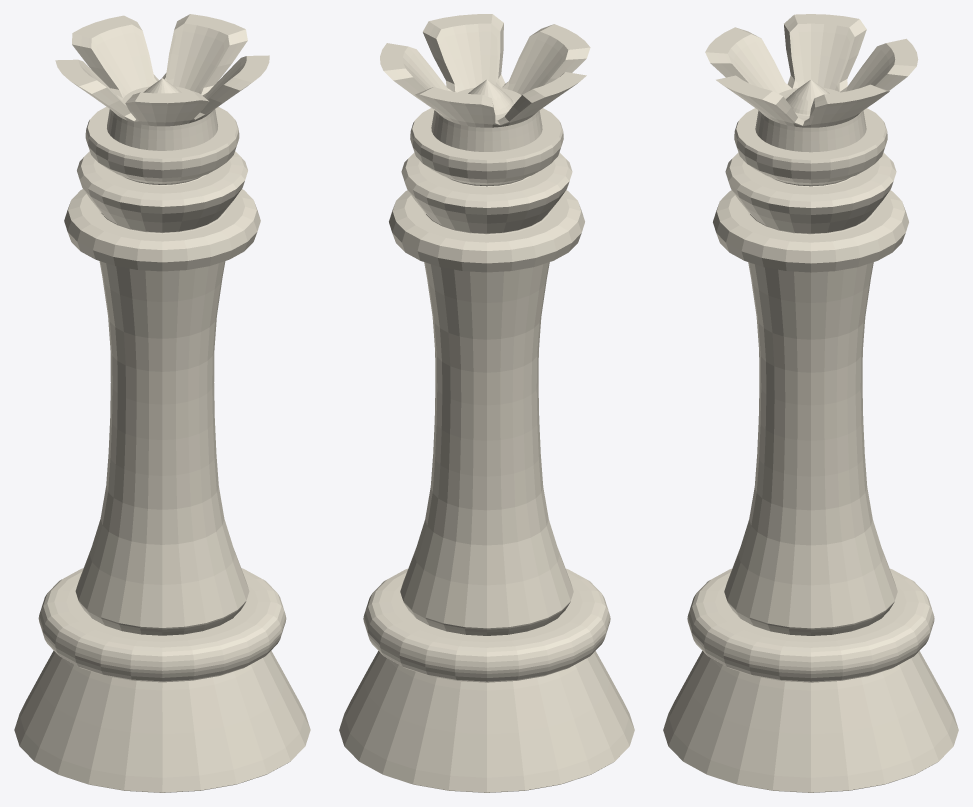
Rendered from queen.fbx.
The picture shows the model from 3 angles, left to right: view 1: azimuth 30°, elevation 25°; view 2: azimuth 150°, elevation 25°; view 3: azimuth 270°, elevation 25°; orthographic projection.
Visible parts, largest first — view 1: chessboard:queen_001_Cylinder_016; view 2: chessboard:queen_001_Cylinder_016; view 3: chessboard:queen_001_Cylinder_016.
Part boxes in pixels (left/top/right/bottom): chessboard:queen_001_Cylinder_016: left=14, top=14, right=310, bottom=792; chessboard:queen_001_Cylinder_016: left=339, top=14, right=634, bottom=792; chessboard:queen_001_Cylinder_016: left=663, top=14, right=958, bottom=792.
Bounding box in the file's own units: 2.75 × 6.89 × 2.75.
